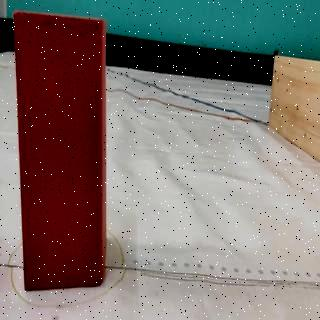redbox: (13, 11, 106, 293)
